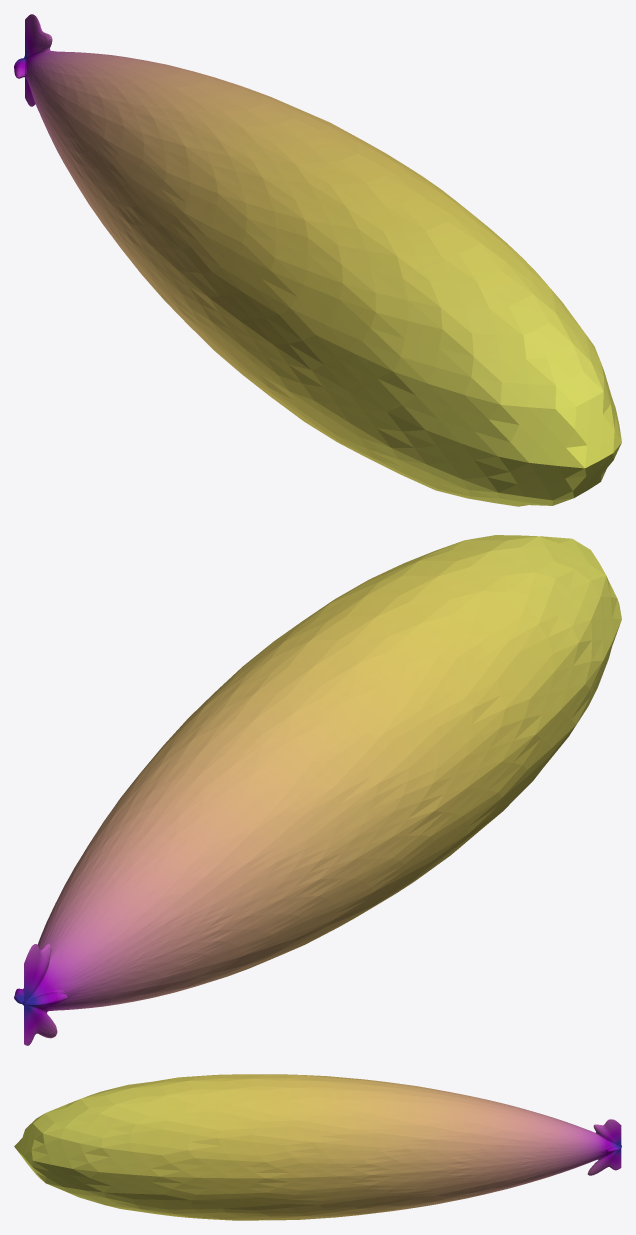
Rendered from FM-PANEL-19-5.2Ghz.glb.
The picture shows the model from 3 angles, top to bottom: view 1: azimuth 30°, elevation 25°; view 2: azimuth 150°, elevation 25°; view 3: azimuth 270°, elevation 25°; orthographic projection. The views are drawn at different scales.
Bounding box in the file's own units: 0.2351 × 0.2429 × 0.9996.
